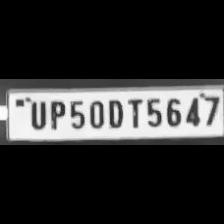0: (86, 97, 106, 129)
4: (182, 93, 202, 126)
5: (66, 96, 86, 130), (143, 94, 163, 128)
6: (164, 95, 182, 127)
7: (201, 93, 221, 126)
D: (105, 96, 124, 128)
P: (46, 97, 66, 130)
T: (125, 96, 143, 128)
U: (25, 98, 47, 130)
